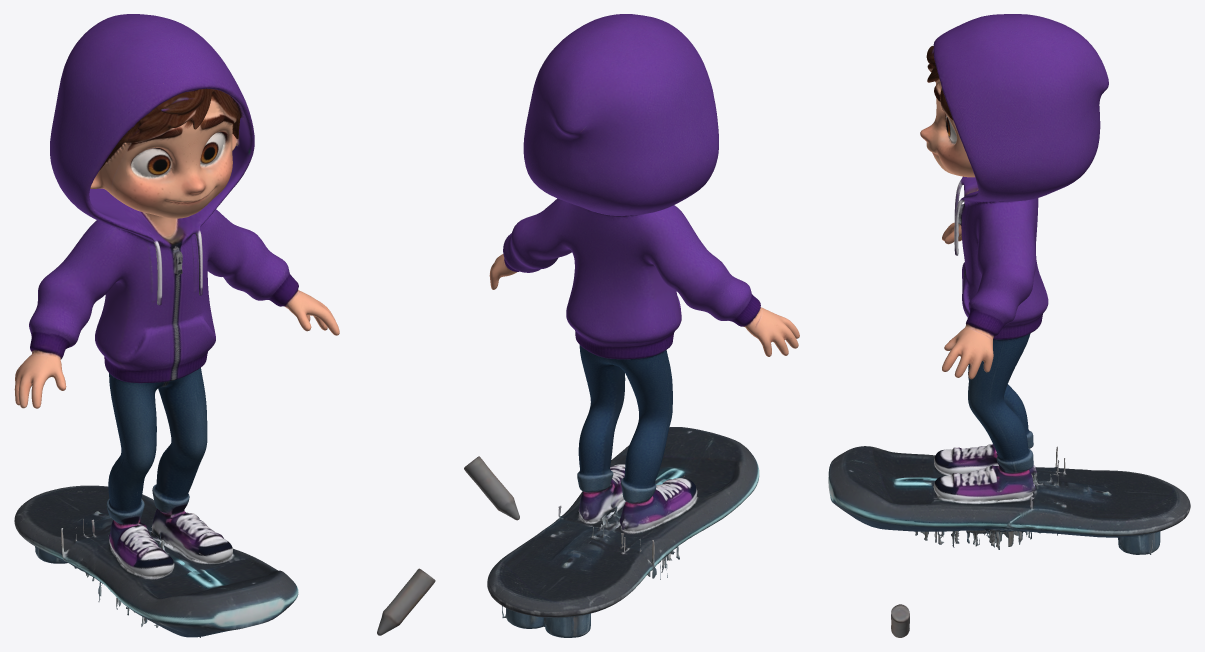
Rendered from player_game.glb.
The picture shows the model from 3 angles, left to right: view 1: azimuth 30°, elevation 25°; view 2: azimuth 150°, elevation 25°; view 3: azimuth 270°, elevation 25°; orthographic projection. The views are drawn at different scales.
Parts seen in each view (by area): view 1: mesh_node; view 2: mesh_node; view 3: mesh_node.
Boxes of the visible parts, box(x1,y1,x2,y2) form: mesh_node: box(14, 14, 435, 637); mesh_node: box(464, 14, 799, 637); mesh_node: box(828, 14, 1190, 637).
Size of the model in its own units: 1.22 by 1.85 by 1.12.
Materials: 1 (1 with a texture image).
